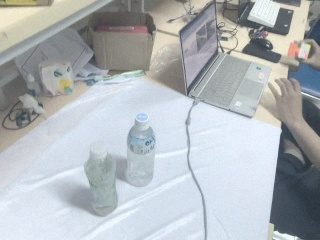bottle: (83, 141, 119, 218), (122, 113, 157, 188)
box: (88, 9, 156, 74)
mouse: (248, 34, 274, 50)
phone: (242, 45, 281, 63)
